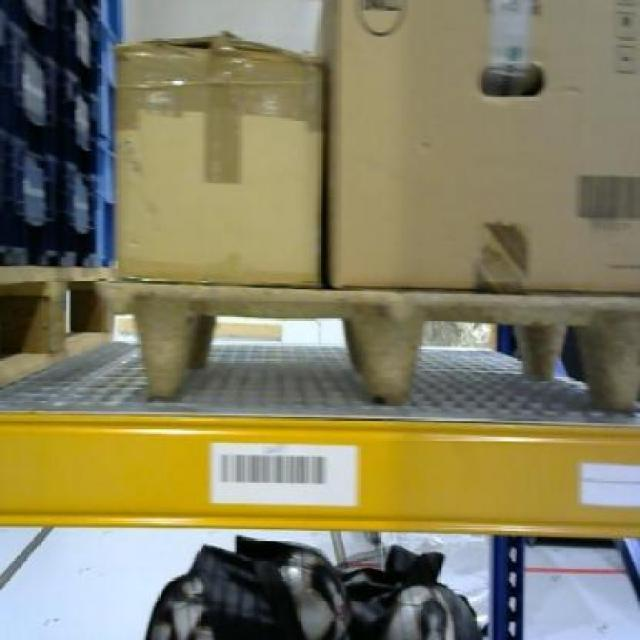box: (326, 0, 639, 289), (105, 28, 326, 287)
